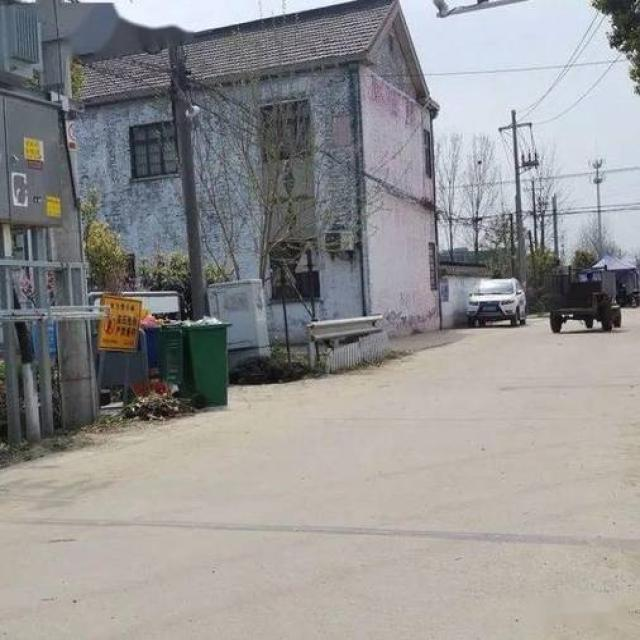garbage: (124, 378, 195, 418)
overflow: (160, 316, 232, 406)
